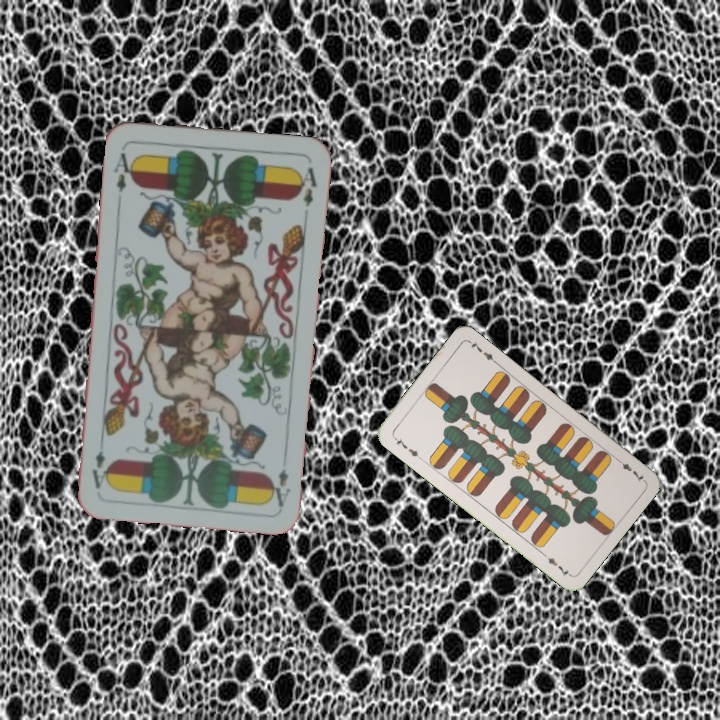E7: (612, 454, 647, 485), (389, 432, 423, 462)
EA: (266, 450, 293, 509), (110, 148, 138, 204)
